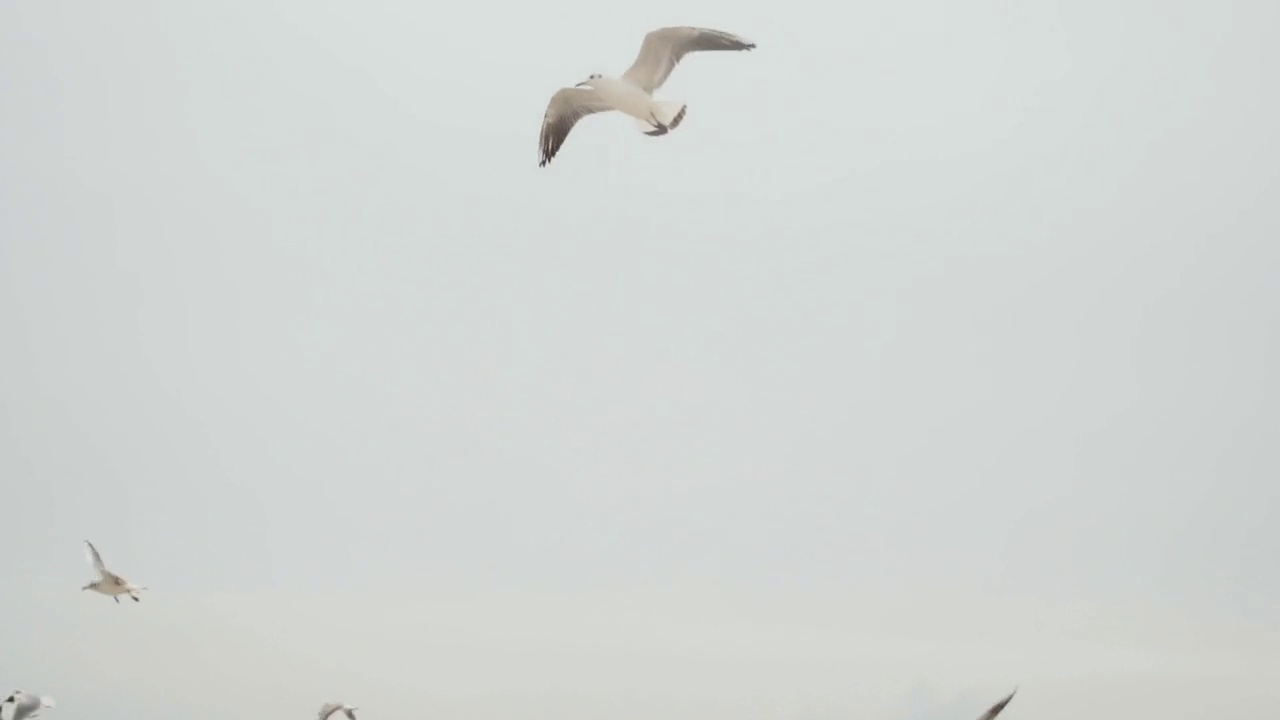bird: (537, 20, 756, 166), (78, 542, 149, 604), (0, 689, 53, 719), (316, 702, 360, 720)
